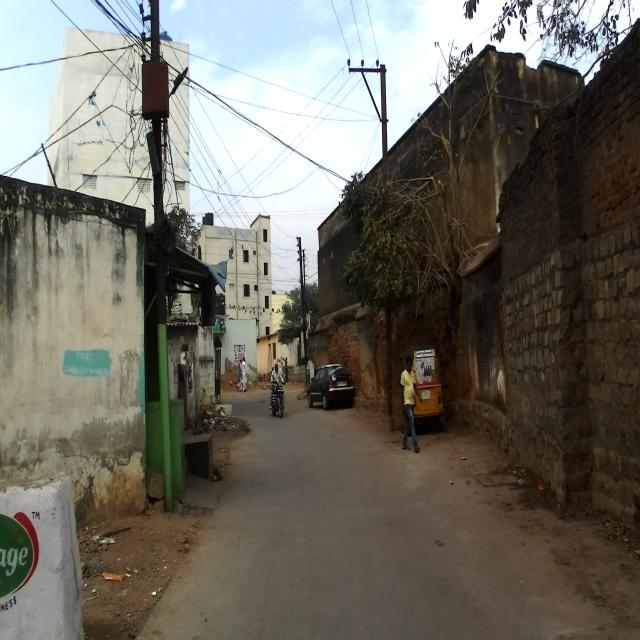electric pole ahead at: (136, 42, 183, 513)
person ahead at: (396, 346, 422, 461)
